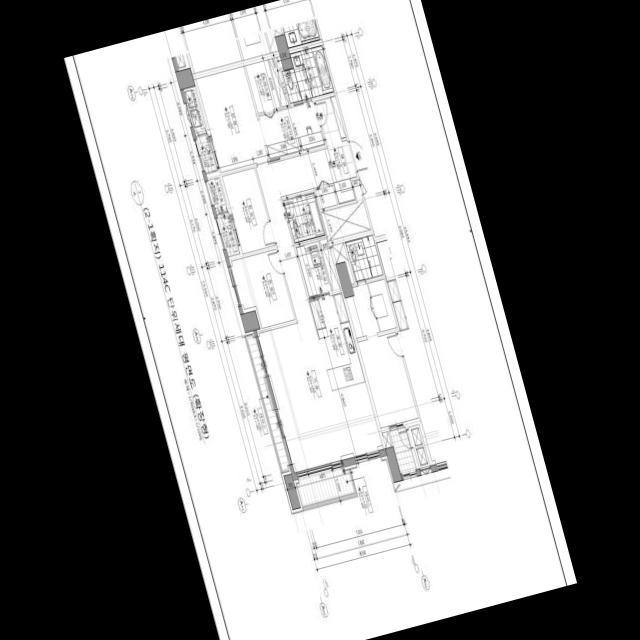background: (63, 0, 577, 640)
space_balconi: (216, 211, 239, 256), (195, 133, 217, 173)
space_bedroom: (195, 66, 268, 172), (231, 249, 294, 328), (221, 167, 275, 253)
space_dressroom: (258, 101, 324, 158), (245, 60, 279, 113)
space_front: (314, 95, 356, 203)
space_kitchen: (309, 292, 365, 391)
space_living_room: (256, 149, 382, 468), (315, 185, 337, 208)
space_multipurpose_space: (295, 241, 331, 296)
space_other: (319, 179, 370, 290), (268, 56, 289, 106), (183, 86, 205, 130)
space_outdoor_room: (207, 177, 226, 208)
space_toilet: (282, 45, 333, 102), (283, 193, 324, 242)
